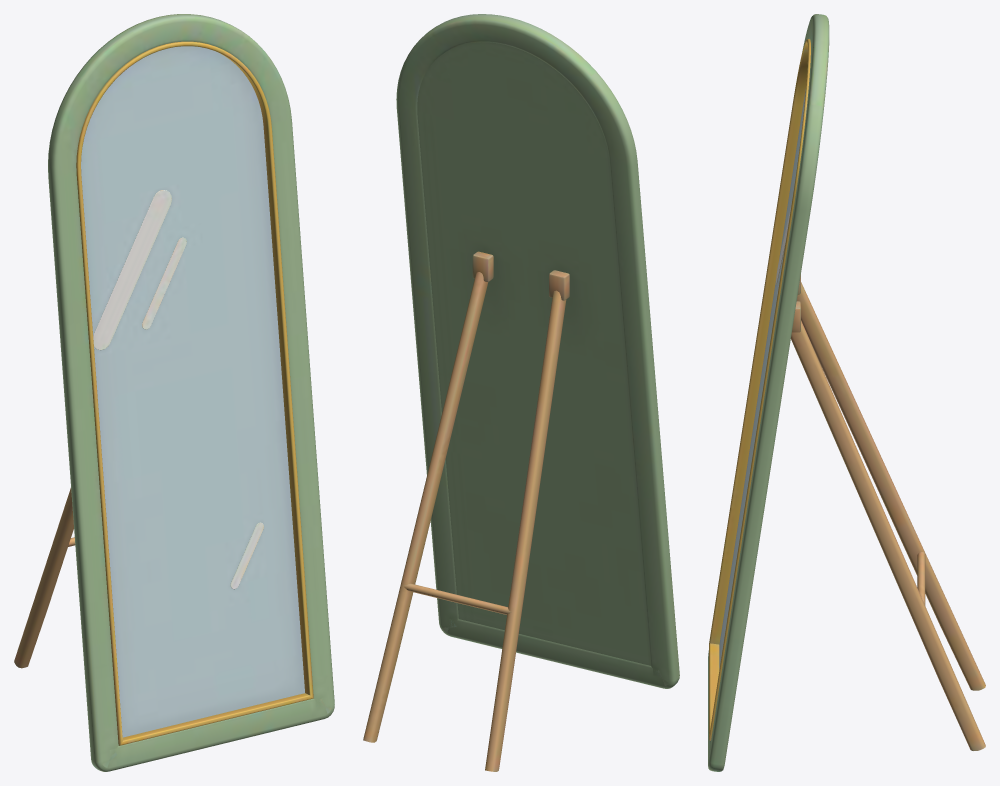
File: full-length-mirror.glb
3 views of the same model, side by side, from view 1: azimuth 30°, elevation 25°; view 2: azimuth 150°, elevation 25°; view 3: azimuth 270°, elevation 25° (orthographic).
Visible parts, largest first — view 1: full-length-mirror_body; view 2: full-length-mirror_body; view 3: full-length-mirror_body.
Part boxes in pixels (<box>): full-length-mirror_body: <box>14,14,334,771</box>; full-length-mirror_body: <box>363,14,679,771</box>; full-length-mirror_body: <box>708,14,985,771</box>.
Bounding box in the file's own units: 0.62 × 1.71 × 0.6217.
Materials: 1 (1 with a texture image).
